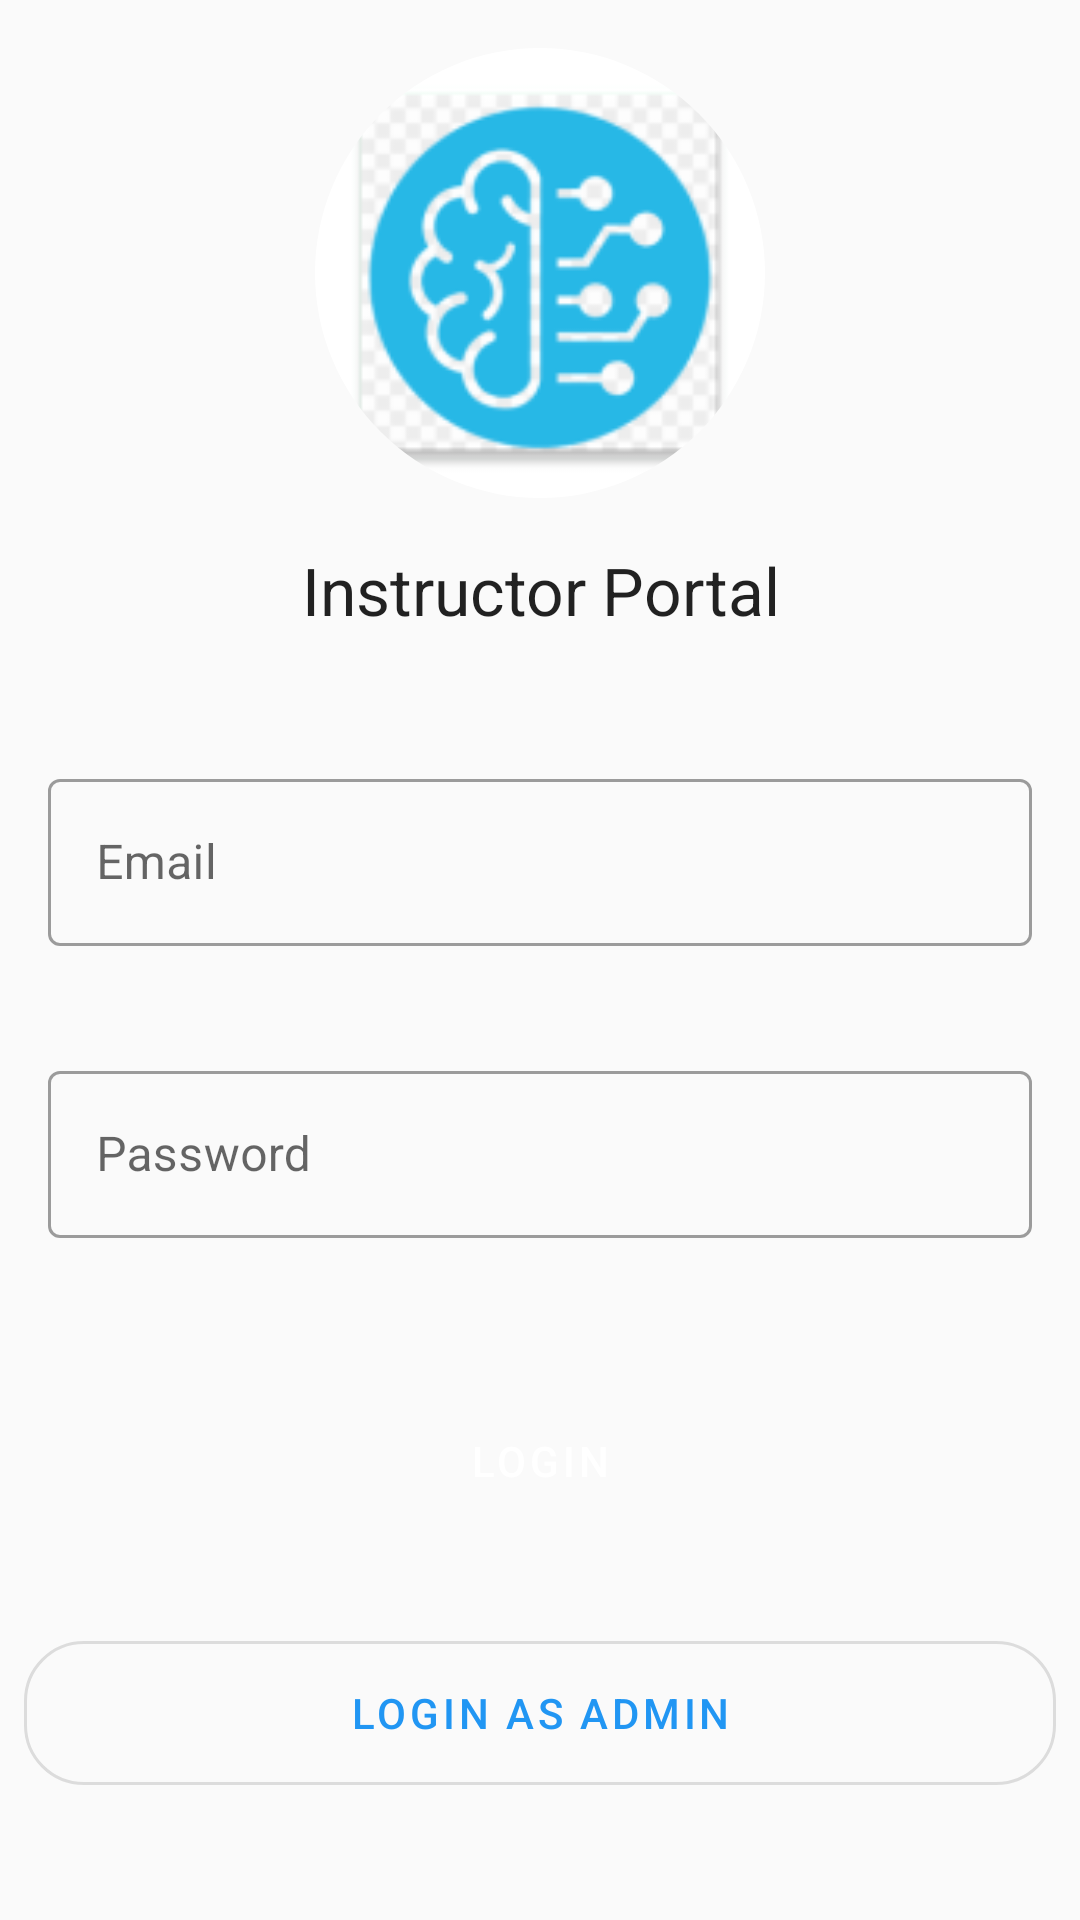

Screen size 1080×1920. Icon name, then its box in pixels as (x1, y1, x2, y2):
artif intell: (360, 104, 720, 462)
